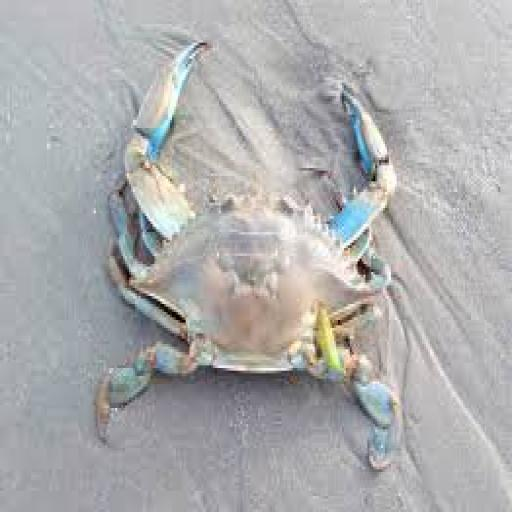crab: (80, 31, 416, 486)
